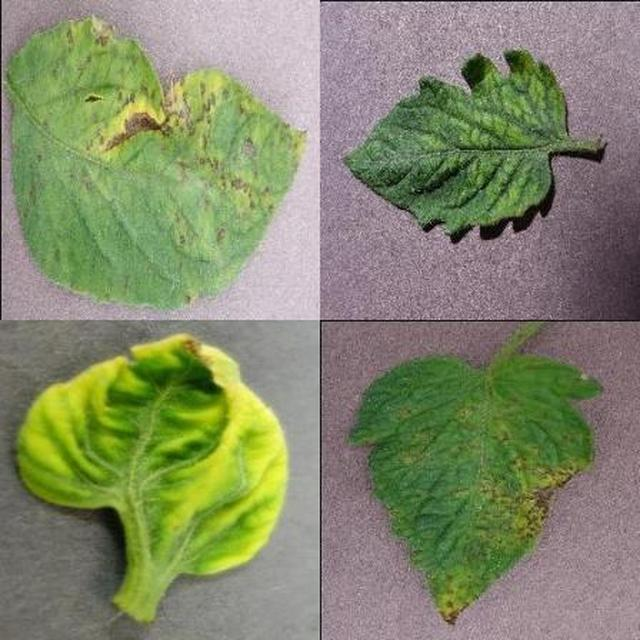Septoria Leaf: (217, 202, 640, 640)
